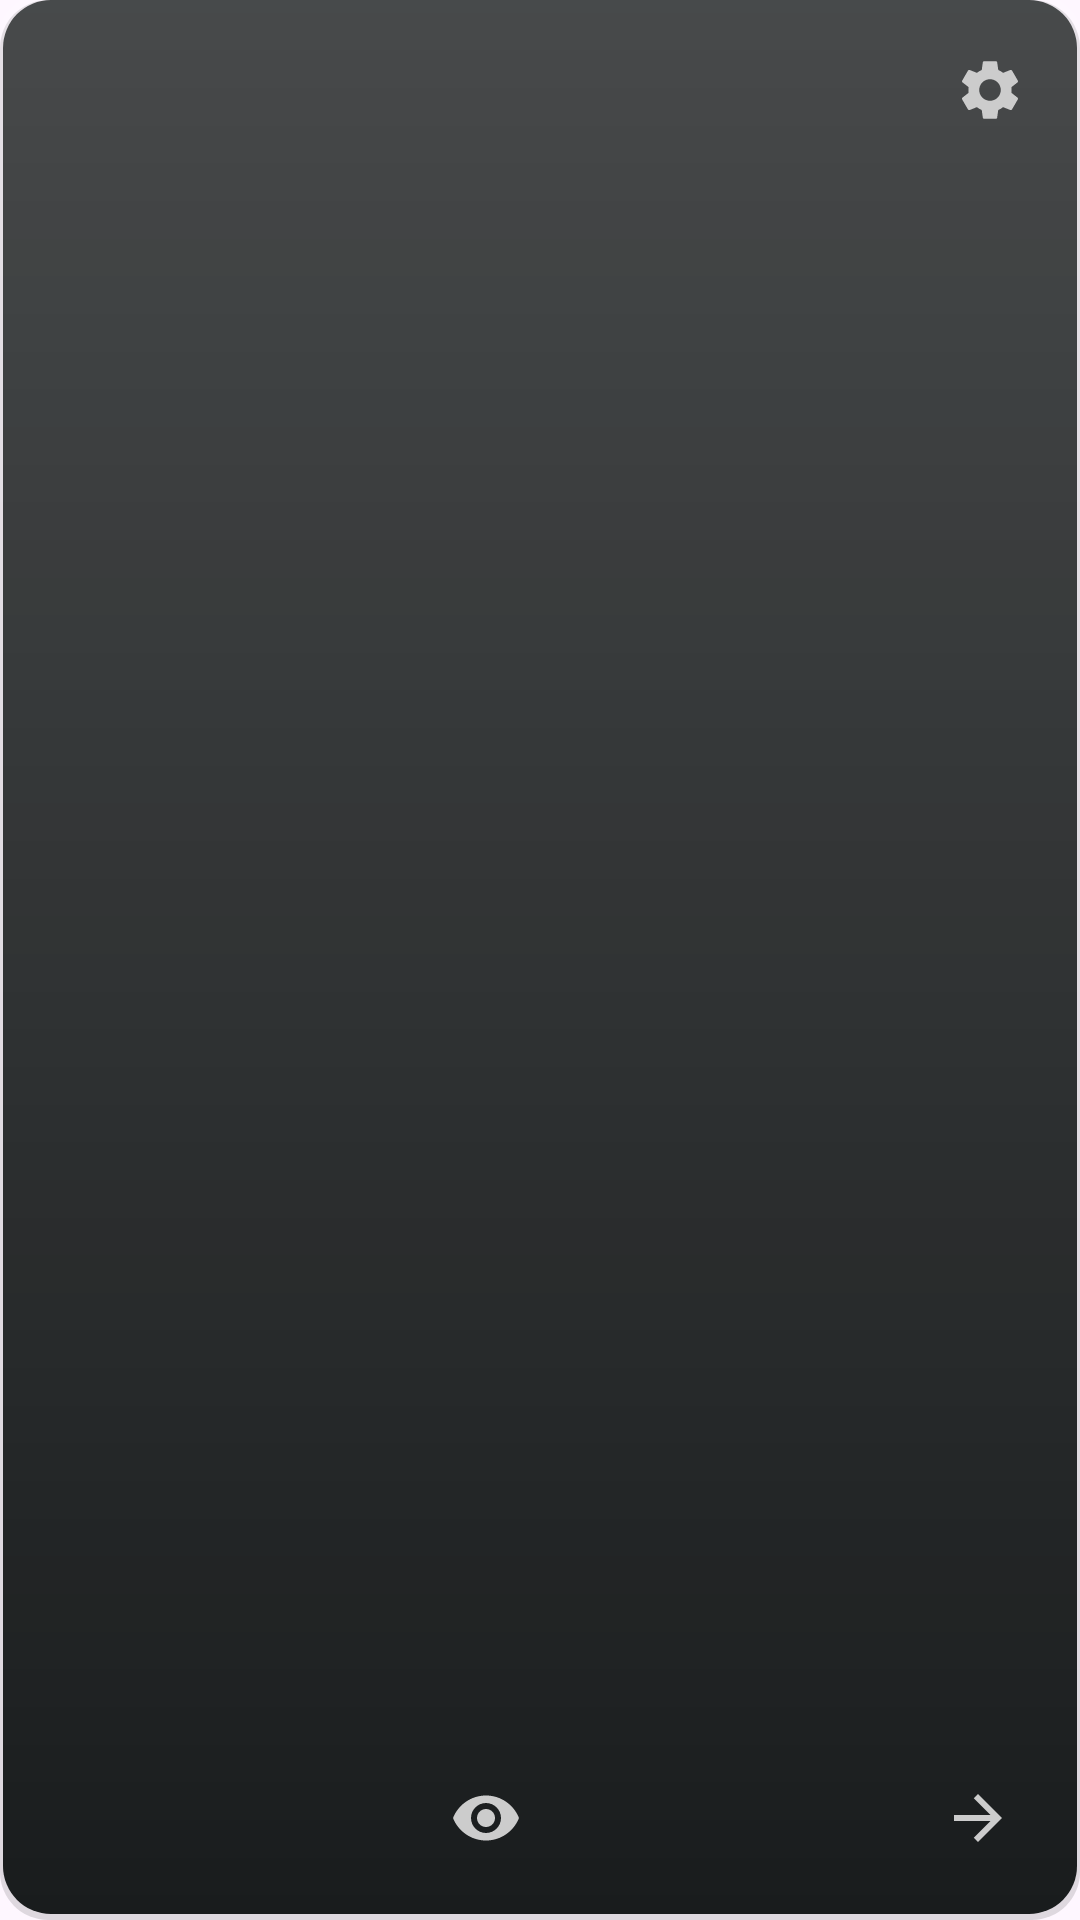

Screen size 1080*1920. Icon name, then its center in pixels as (x,y):
Next Word: (978,1818)
Settings: (990,90)
Show/Hide Explanation: (486,1818)
